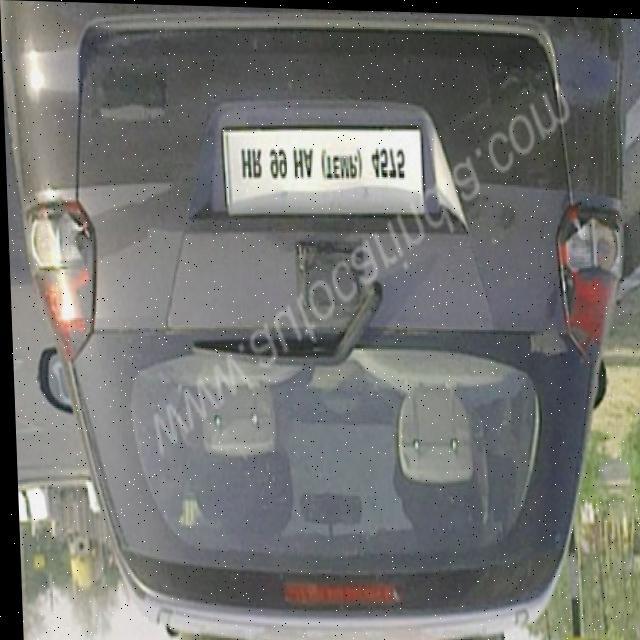plate: (218, 121, 424, 222)
